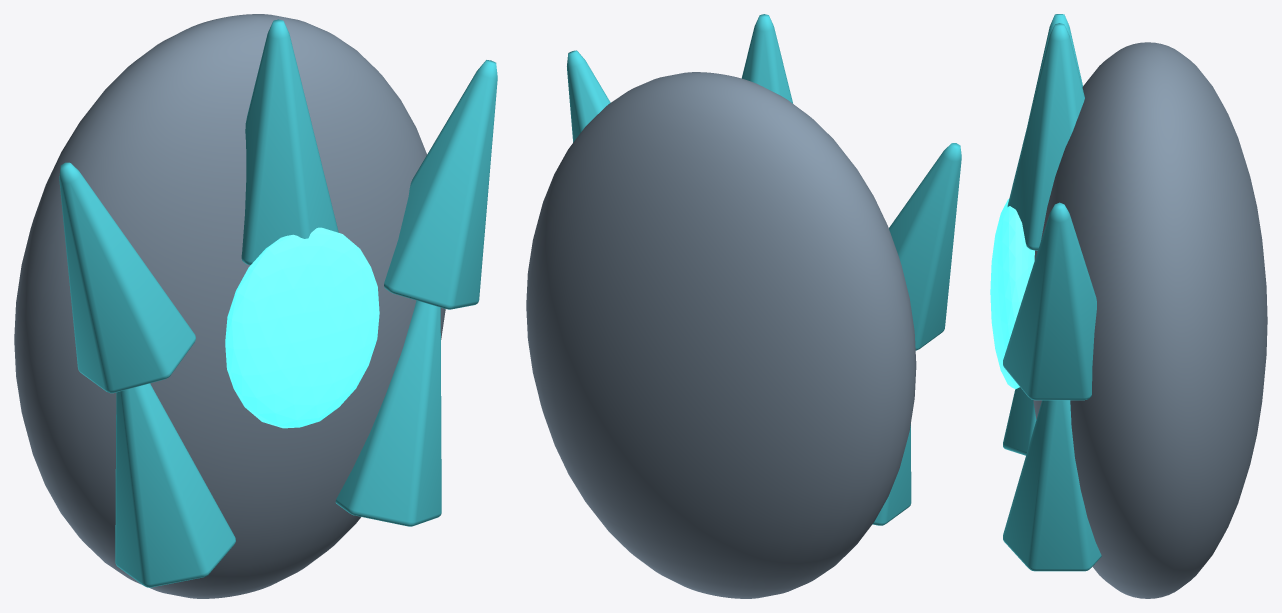
File: cuirass_v6.glb
3 renders of one model, left to right at view 1: azimuth 30°, elevation 25°; view 2: azimuth 150°, elevation 25°; view 3: azimuth 270°, elevation 25°, orthographic. The views are drawn at different scales.
Parts seen in each view (by area): view 1: CARAPACE_CORE_PRIMARY, CARAPACE_HEART_EMISSIVE, CARAPACE_SHARD_ACCENT, CARAPACE_SHARD_ACCENT.002, CARAPACE_SHARD_ACCENT.001, CARAPACE_SHARD_ACCENT.003, CARAPACE_SHARD_ACCENT.004; view 2: CARAPACE_CORE_PRIMARY, CARAPACE_SHARD_ACCENT, CARAPACE_SHARD_ACCENT.004, CARAPACE_SHARD_ACCENT.001, CARAPACE_SHARD_ACCENT.002; view 3: CARAPACE_CORE_PRIMARY, CARAPACE_SHARD_ACCENT.001, CARAPACE_SHARD_ACCENT.003, CARAPACE_SHARD_ACCENT.004, CARAPACE_HEART_EMISSIVE, CARAPACE_SHARD_ACCENT.002, CARAPACE_SHARD_ACCENT.
Boxes of the visible parts, box(x1,y1,x2,y2) form: CARAPACE_CORE_PRIMARY: box(14, 14, 445, 598); CARAPACE_HEART_EMISSIVE: box(225, 227, 379, 428); CARAPACE_SHARD_ACCENT: box(59, 162, 195, 393); CARAPACE_SHARD_ACCENT.002: box(115, 383, 235, 587); CARAPACE_SHARD_ACCENT.001: box(384, 60, 497, 309); CARAPACE_SHARD_ACCENT.003: box(335, 300, 441, 526); CARAPACE_SHARD_ACCENT.004: box(241, 19, 338, 265); CARAPACE_CORE_PRIMARY: box(526, 72, 916, 598); CARAPACE_SHARD_ACCENT: box(889, 143, 961, 350); CARAPACE_SHARD_ACCENT.004: box(741, 14, 792, 103); CARAPACE_SHARD_ACCENT.001: box(567, 50, 610, 142); CARAPACE_SHARD_ACCENT.002: box(872, 424, 911, 525); CARAPACE_CORE_PRIMARY: box(1033, 42, 1267, 598); CARAPACE_SHARD_ACCENT.001: box(1003, 202, 1096, 400); CARAPACE_SHARD_ACCENT.003: box(1003, 400, 1101, 571); CARAPACE_SHARD_ACCENT.004: box(1007, 23, 1084, 250); CARAPACE_HEART_EMISSIVE: box(990, 199, 1034, 389); CARAPACE_SHARD_ACCENT.002: box(1003, 387, 1036, 455); CARAPACE_SHARD_ACCENT: box(1028, 14, 1082, 122).
Size of the model in its own units: 1.48 by 1.95 by 0.88.
